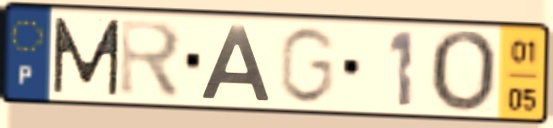1: (386, 29, 417, 111)
A: (196, 22, 273, 103)
G: (275, 24, 340, 107)
M: (50, 14, 124, 98)
O: (426, 27, 502, 116)
R: (117, 16, 187, 103)
